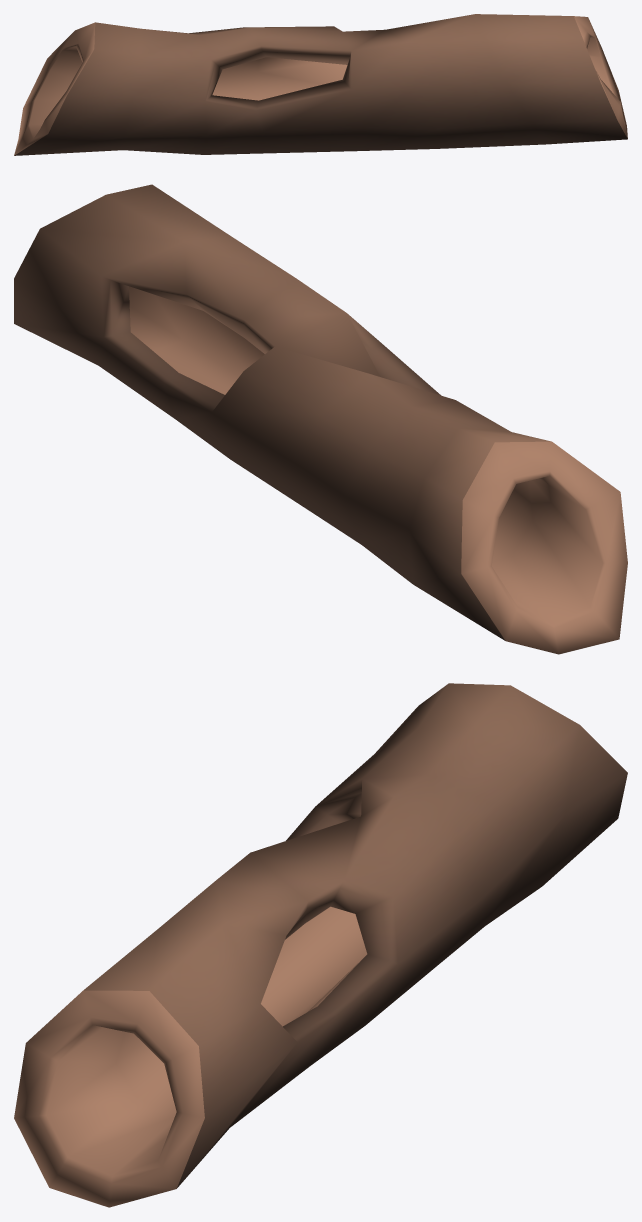
The model's file is FallenTreeMesh.fbx.
3 renders of one model, top to bottom at view 1: azimuth 30°, elevation 25°; view 2: azimuth 150°, elevation 25°; view 3: azimuth 270°, elevation 25°, orthographic. The views are drawn at different scales.
Parts seen in each view (by area): view 1: FallenTreeMesh; view 2: FallenTreeMesh; view 3: FallenTreeMesh.
Boxes of the visible parts, x1,y1,x2,y2 form: FallenTreeMesh: (14,14,627,155); FallenTreeMesh: (14,184,627,654); FallenTreeMesh: (14,683,627,1207).
Bounding box in the file's own units: 464 × 108 × 294.
